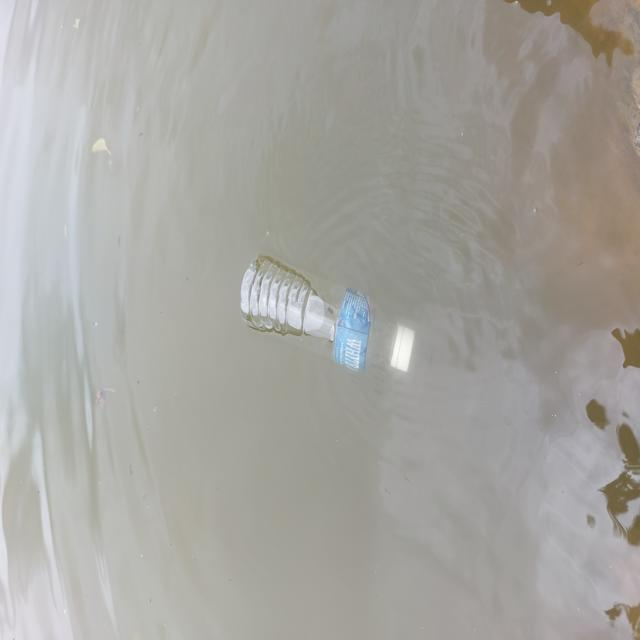waterbottle: (245, 239, 446, 405)
